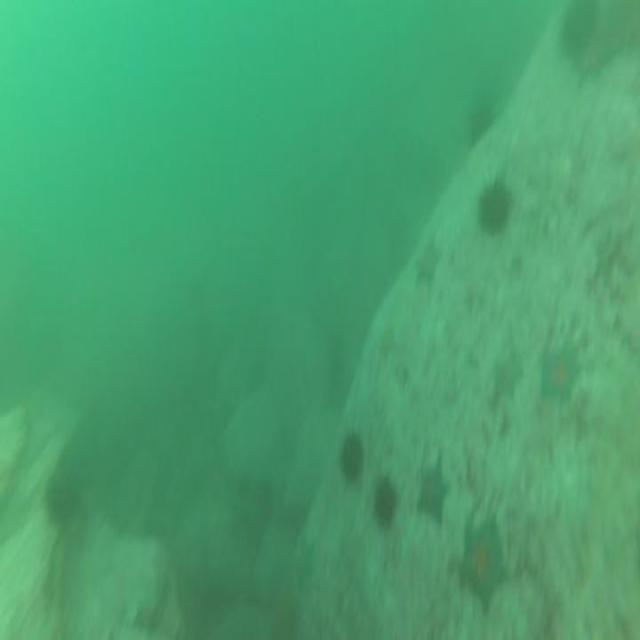echinus: (42, 466, 84, 534), (558, 0, 604, 62), (476, 177, 514, 239), (369, 473, 400, 534), (339, 425, 366, 488), (466, 101, 496, 152)
starfish: (457, 512, 509, 607), (535, 335, 584, 412), (414, 449, 452, 531), (486, 344, 524, 411), (290, 528, 320, 594), (412, 231, 444, 289)
